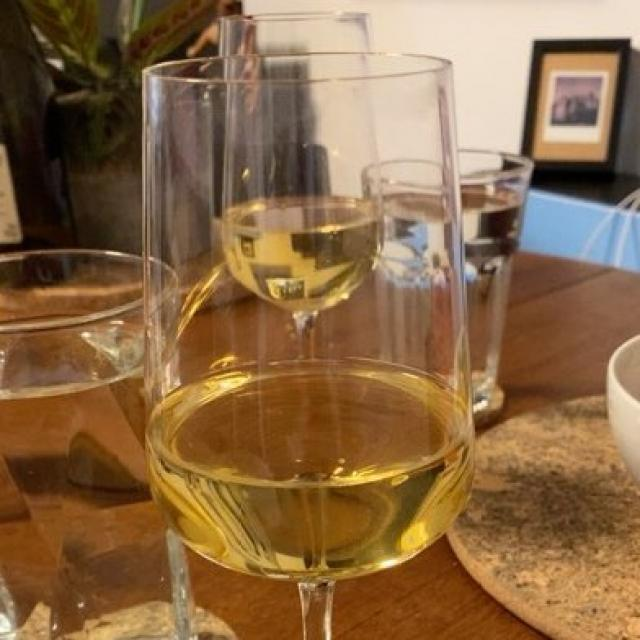wine: (144, 352, 471, 578)
